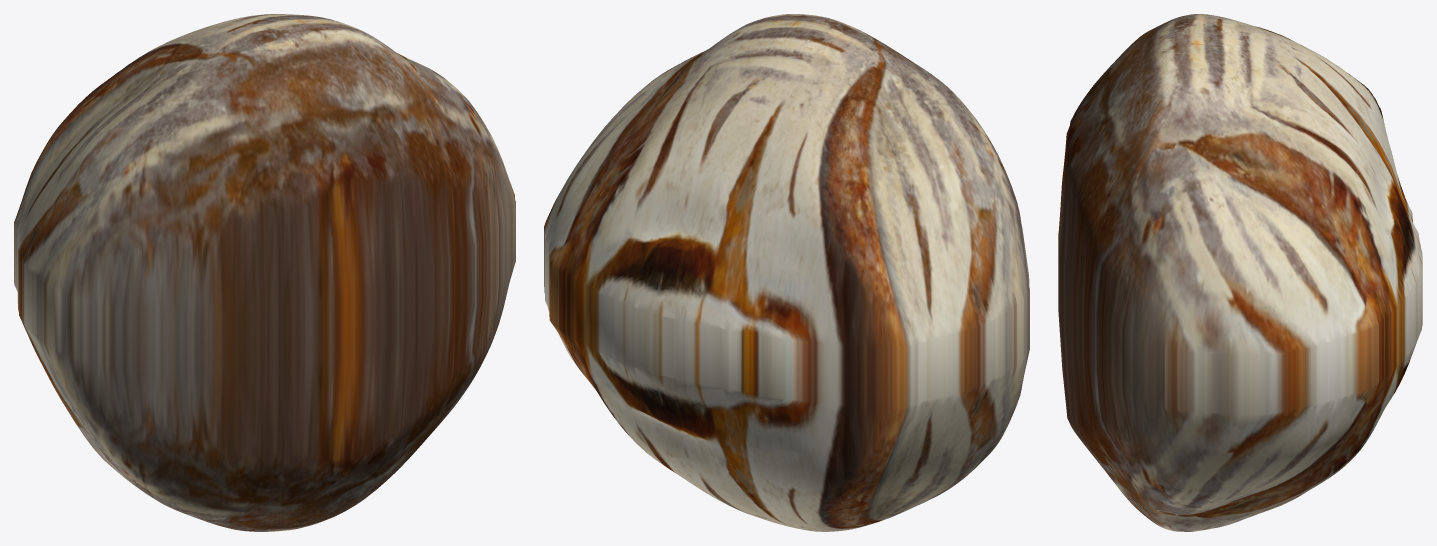
The model's file is sourdough_9_2.obj.
3 renders of one model, left to right at view 1: azimuth 30°, elevation 25°; view 2: azimuth 150°, elevation 25°; view 3: azimuth 270°, elevation 25°, orthographic. The views are drawn at different scales.
Parts seen in each view (by area): view 1: Grid; view 2: Grid; view 3: Grid.
Boxes of the visible parts, left/top/right/bottom form: Grid: left=14, top=14, right=515, bottom=531; Grid: left=544, top=14, right=1029, bottom=531; Grid: left=1058, top=14, right=1422, bottom=531.
Size of the model in its own units: 1.9 by 2 by 1.36.
1 material, 1 textured.
